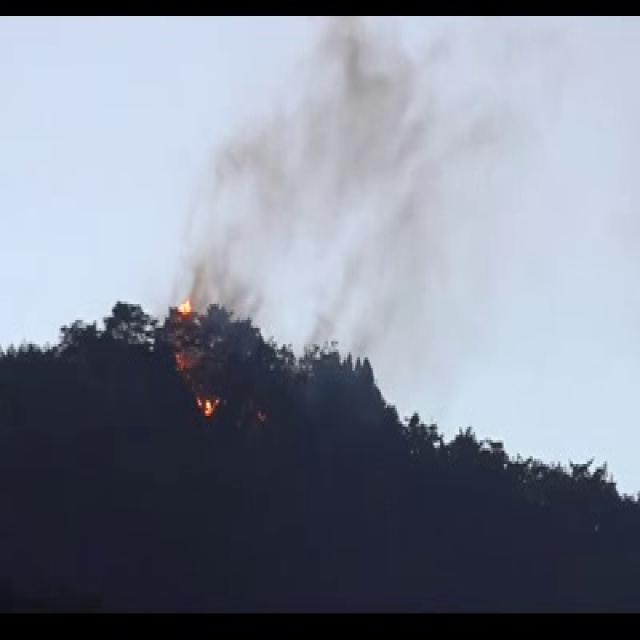smoke: (228, 34, 486, 325)
